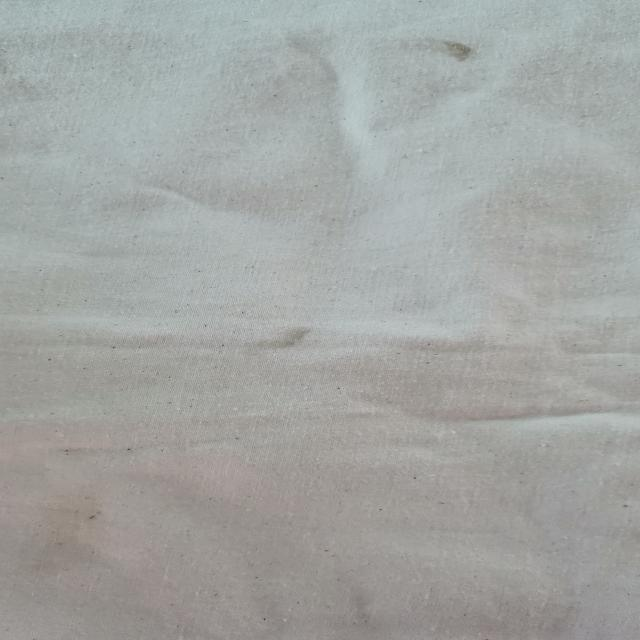taaaches: (410, 24, 510, 77), (246, 317, 322, 365)
